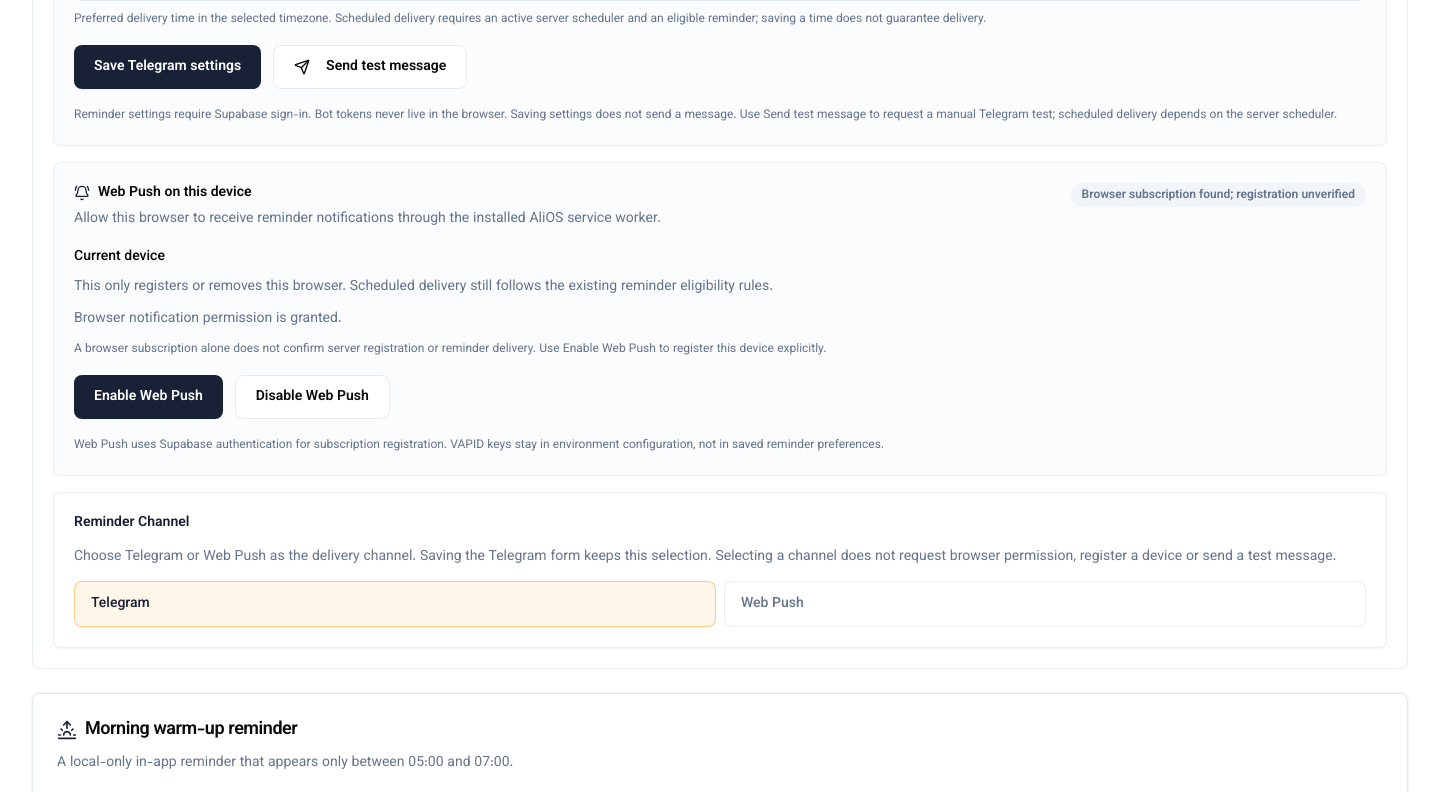
Test: bilingual Settings safety copy › reports explicit Push registration separately from delivery and preference saving in en
The width and height of the screenshot is (1440, 792).
(page scrolled)
Check: the text "Registration confirmed in this session" is not shown
Click the button "Enable Web Push" at x=148, y=397, box 74,375 -> 223,419
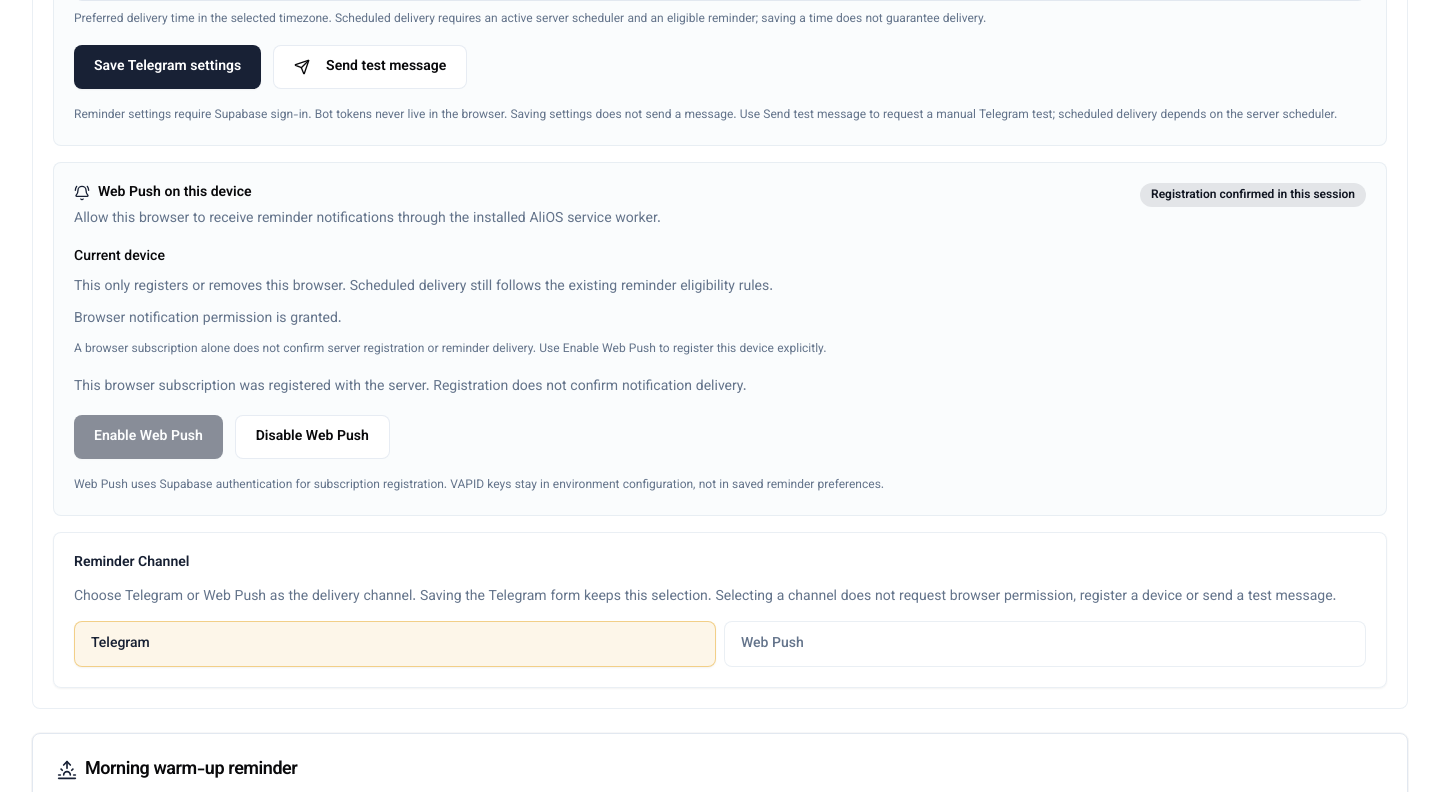
Check: the text "Registration confirmed in this session" is shown, box 1140,183 -> 1366,207
Check: the text "This browser subscription was registered with the server. Registration does not confirm notification delivery." is shown, box 74,376 -> 747,398
